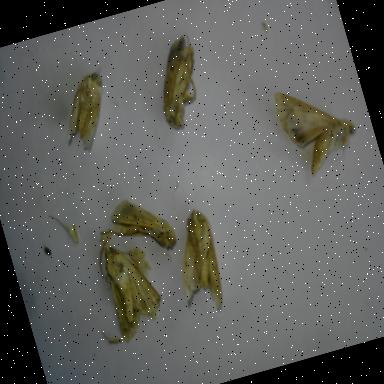abw: (268, 69, 368, 185), (93, 230, 174, 348), (160, 202, 238, 324), (140, 28, 219, 138), (47, 64, 126, 160), (100, 184, 184, 266)
